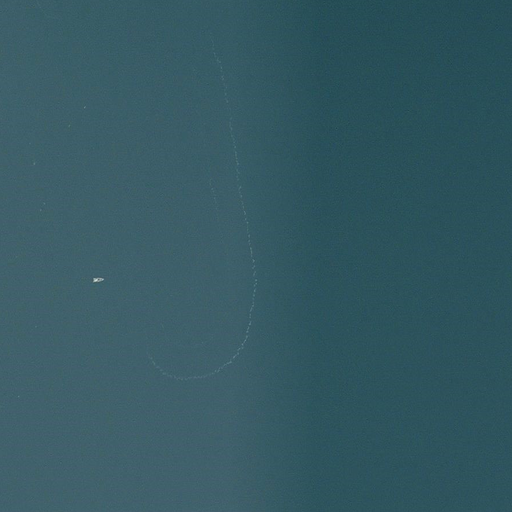ship: (90, 276, 103, 284)
